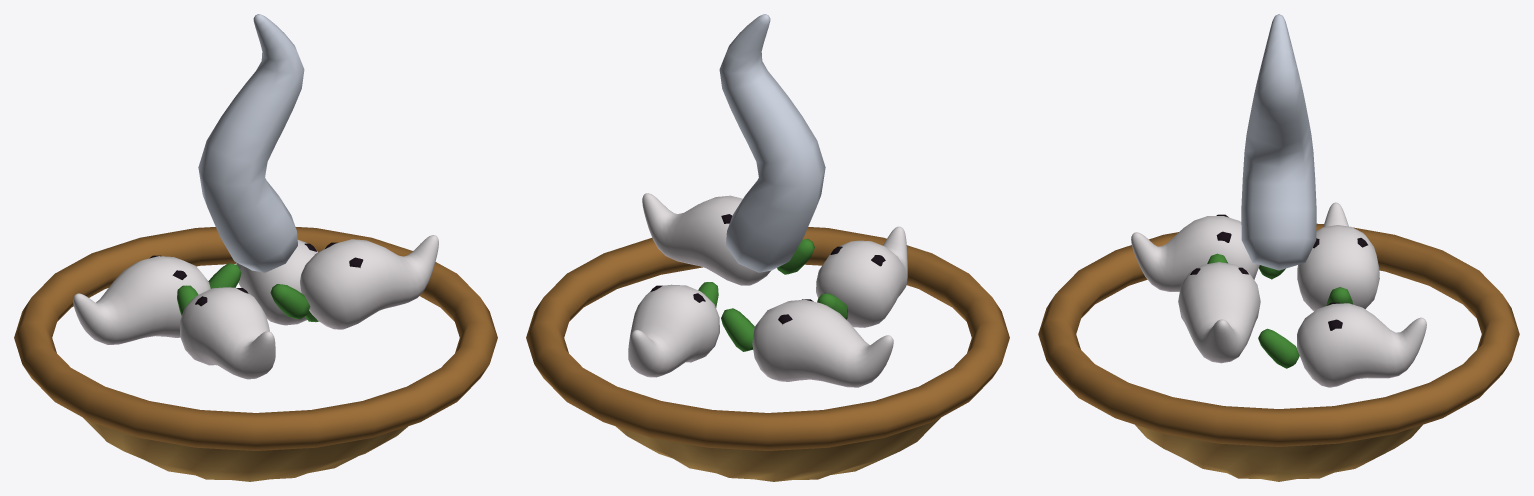
File: ing_pepper.glb
3 views of the same model, side by side, from view 1: azimuth 30°, elevation 25°; view 2: azimuth 150°, elevation 25°; view 3: azimuth 270°, elevation 25° (orthographic).
Visible parts, largest first — view 1: ing_pepper, ing_pepper_glow; view 2: ing_pepper, ing_pepper_glow; view 3: ing_pepper, ing_pepper_glow.
Part boxes in pixels (left/top/right/bottom): ing_pepper: left=14, top=227, right=497, bottom=481; ing_pepper_glow: left=198, top=14, right=304, bottom=272; ing_pepper: left=526, top=193, right=1009, bottom=481; ing_pepper_glow: left=719, top=14, right=825, bottom=272; ing_pepper: left=1038, top=202, right=1519, bottom=481; ing_pepper_glow: left=1241, top=14, right=1316, bottom=270.
Bounding box in the file's own units: 0.38 × 0.3769 × 0.38.
